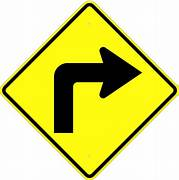right: (1, 1, 179, 180)
